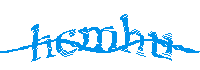c: (56, 28, 78, 57)
h: (120, 13, 146, 58), (30, 23, 54, 61)
m: (79, 25, 120, 52)
u: (148, 31, 175, 60)
